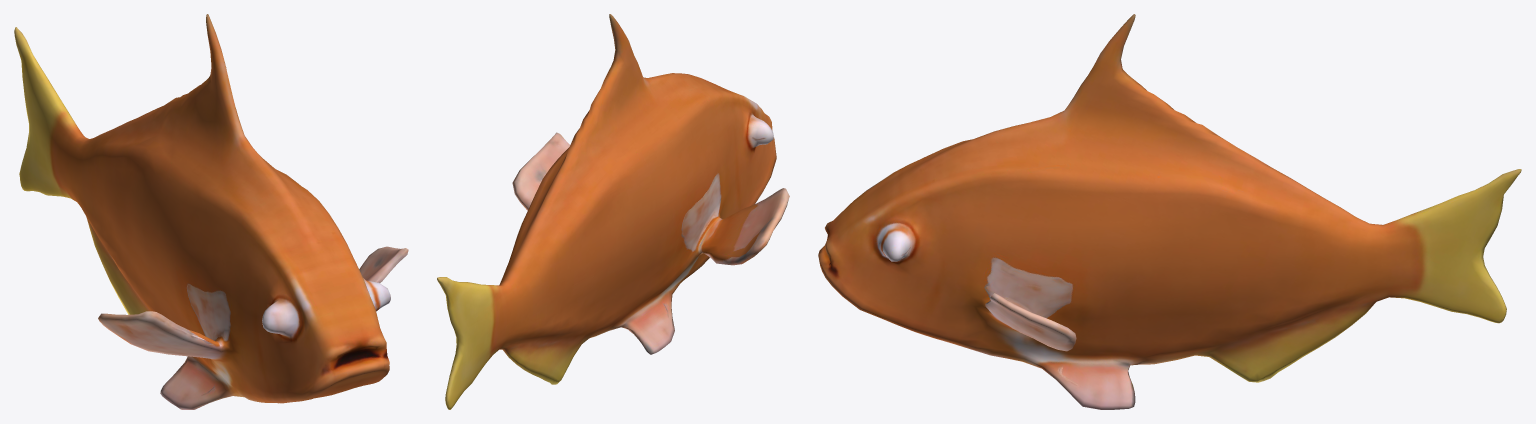
File: fish_15.glb
3 views of the same model, side by side, from view 1: azimuth 30°, elevation 25°; view 2: azimuth 150°, elevation 25°; view 3: azimuth 270°, elevation 25° (orthographic). The views are drawn at different scales.
Parts seen in each view (by area): view 1: mesh; view 2: mesh; view 3: mesh.
Part boxes in pixels (<box>): mesh: <box>14,14,408,409</box>; mesh: <box>437,14,789,409</box>; mesh: <box>818,14,1521,409</box>.
Size of the model in its own units: 0.4678 by 0.5837 by 0.9963.
Materials: 1 (1 with a texture image).
